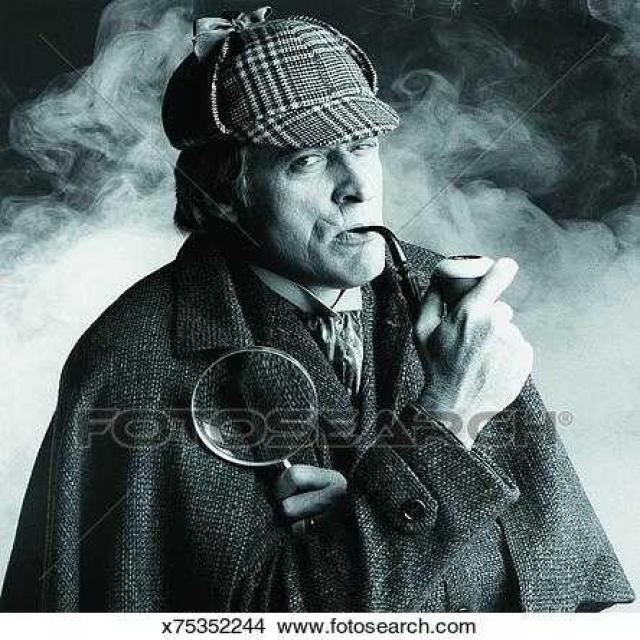Smooking: (361, 223, 507, 337)
